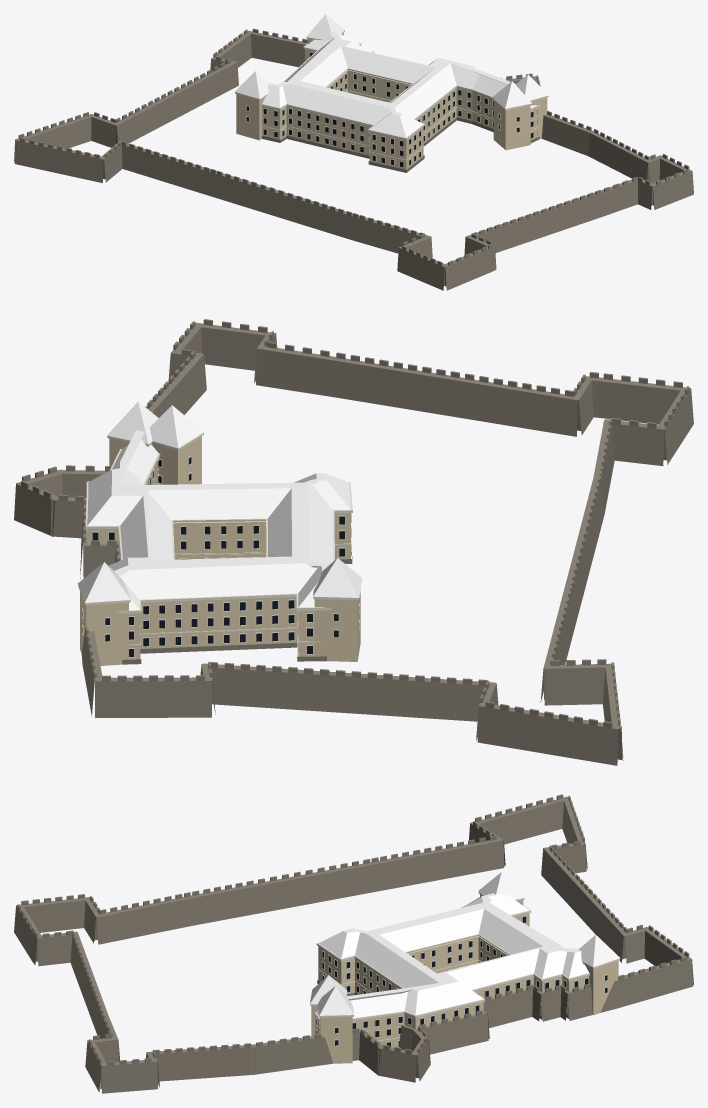
File: castle-hi.glb
3 renders of one model, top to bottom at view 1: azimuth 30°, elevation 25°; view 2: azimuth 150°, elevation 25°; view 3: azimuth 270°, elevation 25°, orthographic. The views are drawn at different scales.
Visible parts, largest first — view 1: lm-castle; view 2: lm-castle; view 3: lm-castle.
Part boxes in pixels (bbox=[...]): lm-castle: bbox=[14, 14, 693, 290]; lm-castle: bbox=[14, 319, 693, 765]; lm-castle: bbox=[14, 794, 693, 1093].
Size of the model in its own units: 179 by 21.89 by 190.
